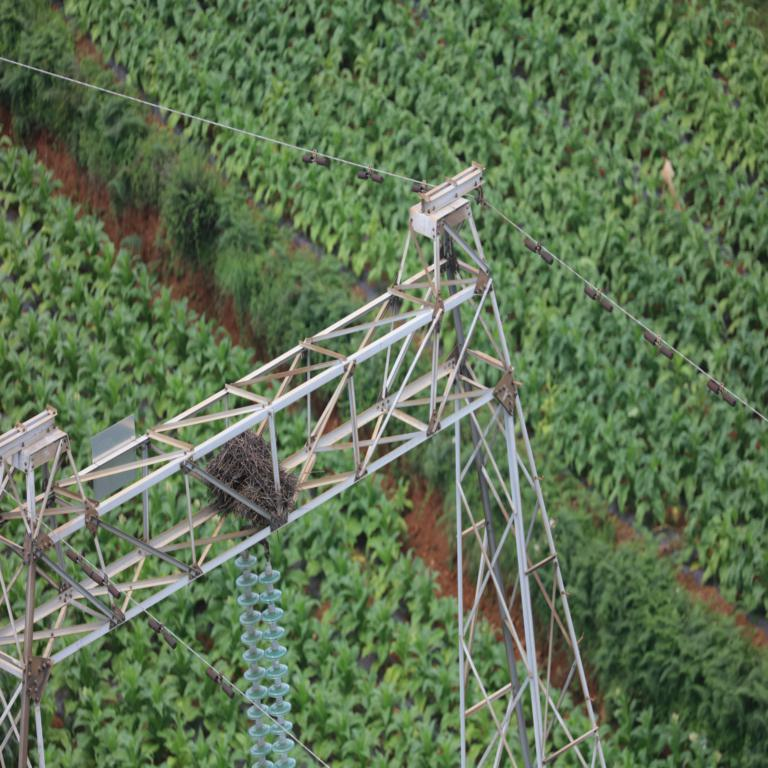nest: (207, 434, 296, 526)
